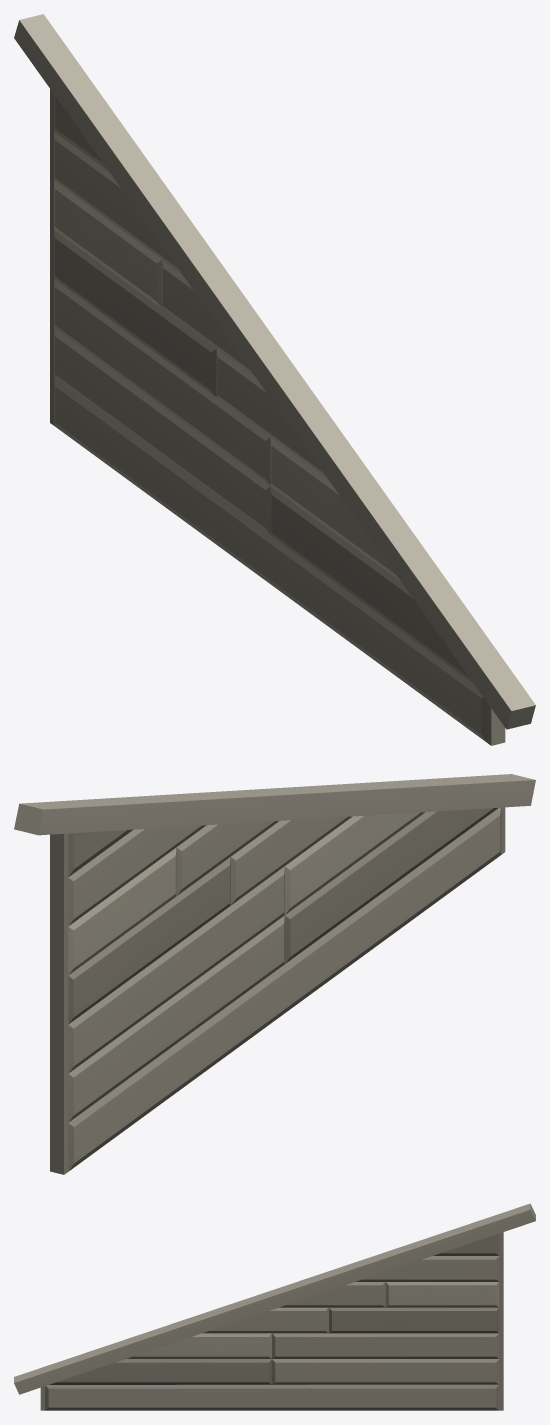
Rendered from TSP_House_Wall_Roof_01A_End.fbx.
3 views of the same model, one above another, from view 1: azimuth 30°, elevation 25°; view 2: azimuth 150°, elevation 25°; view 3: azimuth 270°, elevation 25° (orthographic). The views are drawn at different scales.
Visible parts, largest first — view 1: TSP_House_Wall_Roof_01A_End; view 2: TSP_House_Wall_Roof_01A_End; view 3: TSP_House_Wall_Roof_01A_End.
Boxes of the visible parts, left/top/right/bottom form: TSP_House_Wall_Roof_01A_End: left=14, top=14, right=535, bottom=745; TSP_House_Wall_Roof_01A_End: left=14, top=774, right=535, bottom=1174; TSP_House_Wall_Roof_01A_End: left=14, top=1203, right=535, bottom=1410.
Size of the model in its own units: 0.26 by 3.93 by 9.19.
